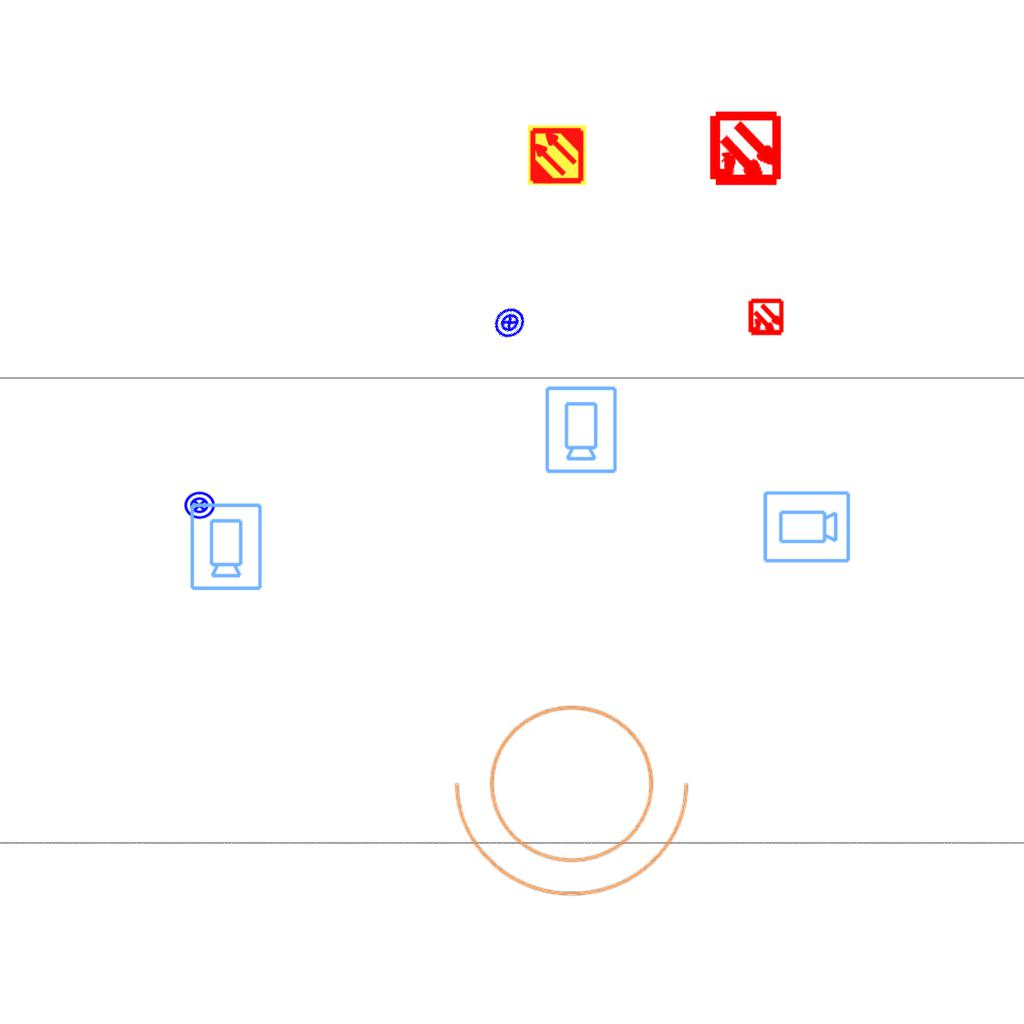ASR_Ansaugrauchmelder: (526, 124, 588, 186)
KFO_Kamera_mit_Festobjektiv: (761, 489, 852, 566), (542, 384, 619, 475), (187, 501, 264, 592)
OT_Multisensormelder_(Kombination_RMO_WMD): (689, 94, 802, 207), (738, 290, 794, 346)
Scheinwerfer_fuer_Alarmbeleuchtung: (446, 681, 710, 906)
Taster_beleuchtet: (486, 299, 533, 346), (183, 489, 216, 522)
